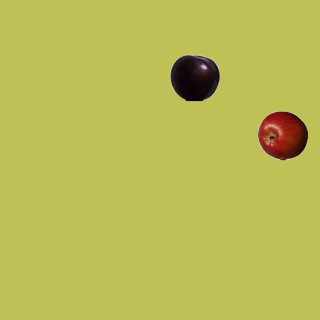Apple Braeburn: (257, 110, 307, 160)
Cherry Wax Black: (169, 52, 219, 102)
